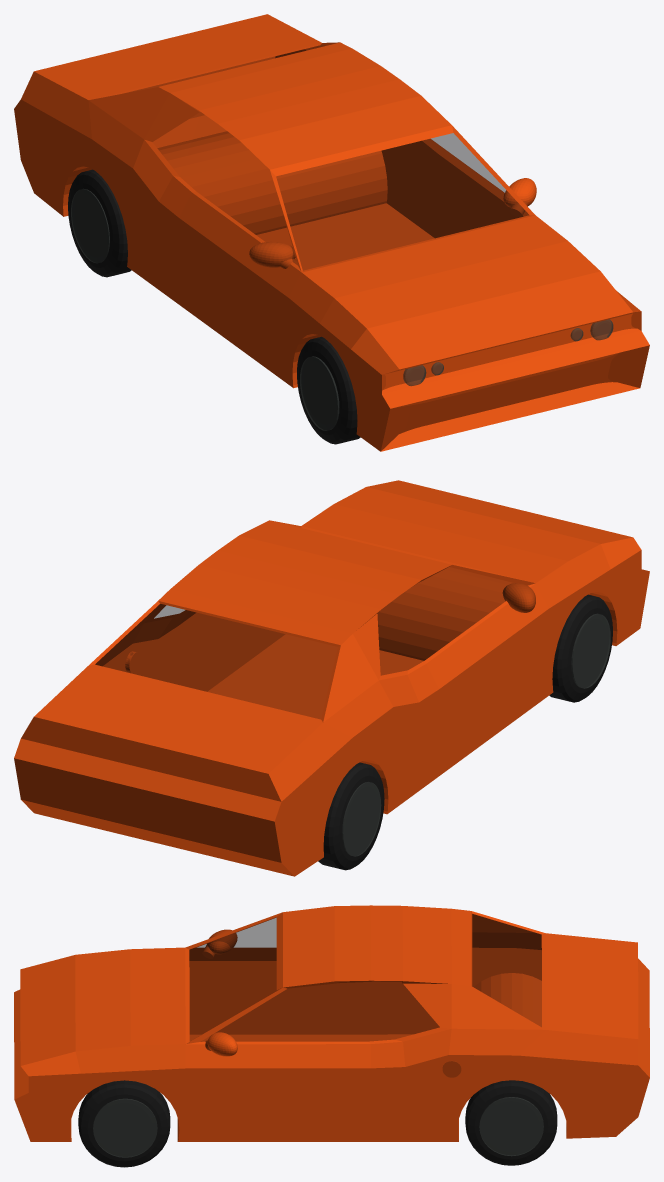
The model's file is asset.glb.
3 views of the same model, one above another, from view 1: azimuth 30°, elevation 25°; view 2: azimuth 150°, elevation 25°; view 3: azimuth 270°, elevation 25° (orthographic). The views are drawn at different scales.
Visible parts, largest first — view 1: Cube.003; view 2: Cube.003; view 3: Cube.003.
Boxes of the visible parts, left/top/right/bottom form: Cube.003: left=14, top=14, right=649, bottom=451; Cube.003: left=14, top=480, right=649, bottom=876; Cube.003: left=14, top=905, right=649, bottom=1167.
Bounding box in the file's own units: 0.7406 × 0.5008 × 1.7.
